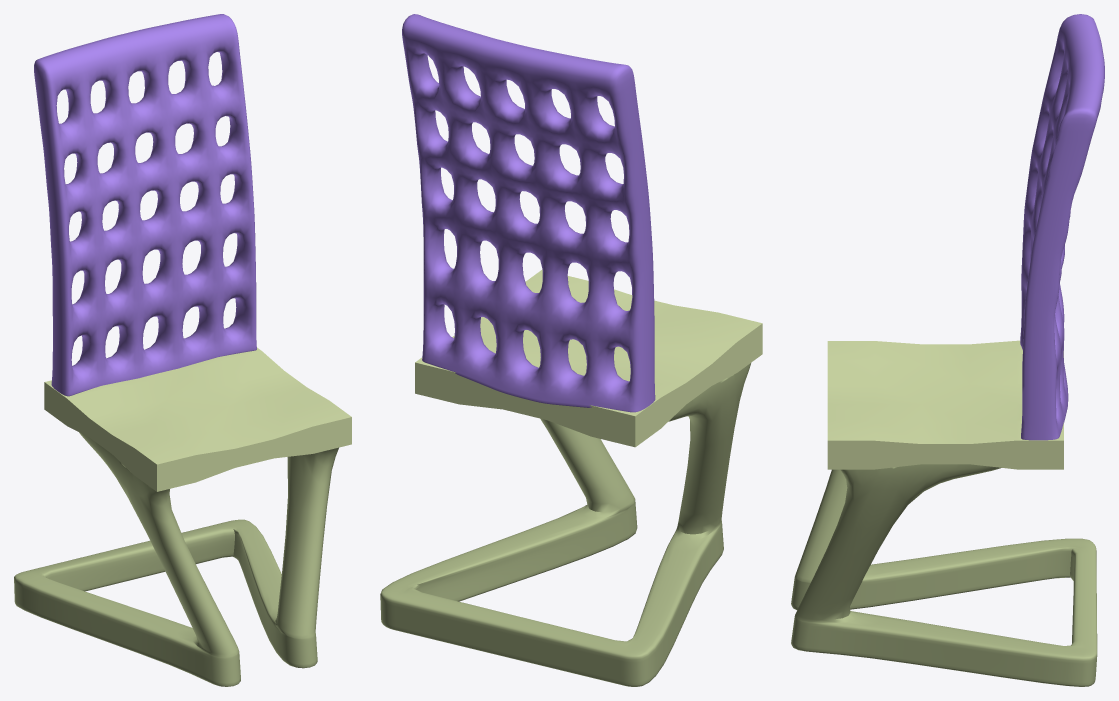
3 views of the same model, side by side, from view 1: azimuth 30°, elevation 25°; view 2: azimuth 150°, elevation 25°; view 3: azimuth 270°, elevation 25° (orthographic). The views are drawn at different scales.
Parts seen in each view (by area): view 1: Object_2.002, split_parent_1, Object_2; view 2: Object_2.002, split_parent_1, Object_2; view 3: split_parent_1, Object_2, Object_2.002.
Part boxes in pixels (x1,y1,x2,y2): Object_2.002: (34, 14, 256, 396); split_parent_1: (14, 432, 338, 686); Object_2: (44, 347, 351, 491); Object_2.002: (402, 14, 655, 412); split_parent_1: (380, 363, 750, 686); Object_2: (415, 269, 762, 447); split_parent_1: (791, 464, 1097, 686); Object_2: (827, 340, 1063, 469); Object_2.002: (1020, 14, 1104, 440).
Bounding box in the file's own units: 0.4545 × 1 × 0.5013.
